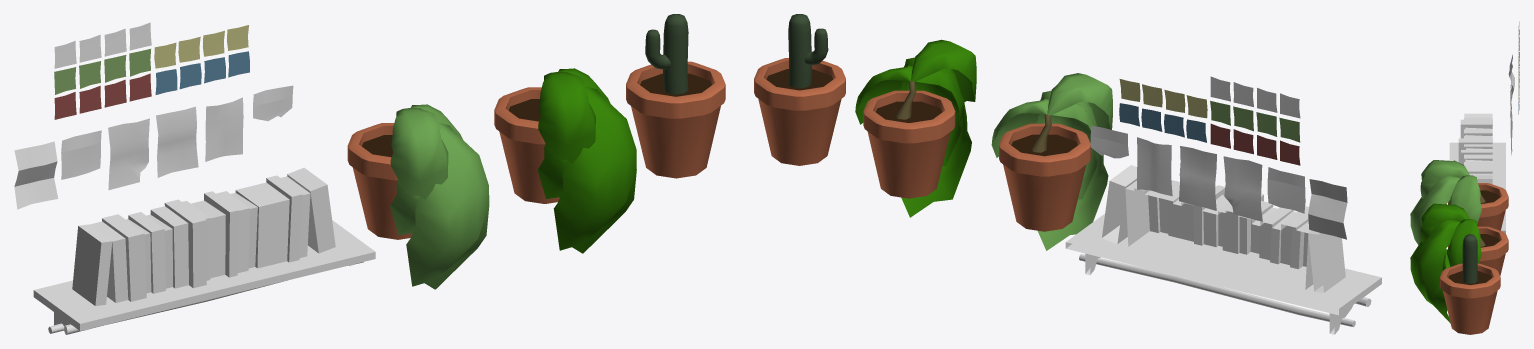
The model's file is Turmdetails_01.fbx.
3 views of the same model, side by side, from view 1: azimuth 30°, elevation 25°; view 2: azimuth 150°, elevation 25°; view 3: azimuth 270°, elevation 25° (orthographic). The views are drawn at different scales.
Visible parts, largest first — view 1: books_on_shelf, Plant_2, Plant_02, Plant_3, regalbrett, Cactus, papersheet_01, papersheet_03, papersheet_08, papersheet_02, papersheet_04, papersheet_05; view 2: Plant_2, Plant_02, regalbrett, books_on_shelf, Plant_3, Cactus, papersheet_01, papersheet_03, papersheet_08, papersheet_02, papersheet_04, papersheet_05; view 3: Plant_2, Plant_02, Plant_3, books_on_shelf, regalbrett, Cactus, papersheet_08.
Boxes of the visible parts, x1,y1,x2,y2 form: books_on_shelf: [72, 167, 335, 305]; Plant_2: [494, 68, 636, 253]; Plant_02: [347, 104, 489, 289]; Plant_3: [626, 61, 725, 178]; regalbrett: [33, 220, 375, 334]; Cactus: [645, 14, 688, 94]; papersheet_01: [156, 106, 198, 177]; papersheet_03: [108, 118, 149, 190]; papersheet_08: [14, 141, 58, 209]; papersheet_02: [205, 97, 243, 161]; papersheet_04: [61, 130, 101, 179]; papersheet_05: [253, 85, 293, 121]; Plant_2: [855, 39, 976, 217]; Plant_02: [991, 73, 1112, 250]; regalbrett: [1065, 214, 1381, 334]; books_on_shelf: [1102, 165, 1345, 292]; Plant_3: [754, 58, 845, 165]; Cactus: [788, 14, 828, 88]; papersheet_01: [1179, 146, 1216, 210]; papersheet_03: [1223, 156, 1262, 221]; papersheet_08: [1308, 179, 1347, 239]; papersheet_02: [1137, 137, 1172, 196]; papersheet_04: [1267, 167, 1305, 213]; papersheet_05: [1090, 125, 1128, 158]; Plant_2: [1410, 203, 1508, 323]; Plant_02: [1410, 160, 1508, 249]; Plant_3: [1440, 263, 1500, 334]; books_on_shelf: [1458, 113, 1492, 184]; regalbrett: [1449, 142, 1505, 233]; Cactus: [1462, 234, 1477, 283]; papersheet_08: [1508, 54, 1514, 98].
Size of the model in its own units: 16.55 by 6.73 by 3.84.
